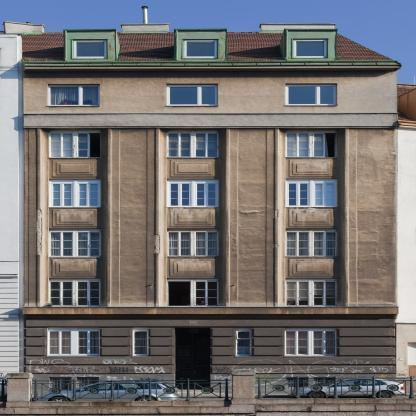Building Outline: (21, 6, 403, 396)
Door: (175, 346, 210, 390)
Facade: (22, 6, 397, 395)
Floor: (23, 69, 398, 124), (23, 128, 398, 175), (23, 229, 398, 274), (23, 180, 398, 225), (23, 279, 398, 314)
Floor Slab: (23, 314, 398, 319), (23, 274, 398, 279), (23, 224, 398, 229), (23, 64, 398, 68), (23, 175, 398, 179), (23, 124, 398, 128)
Ground Floor: (23, 319, 398, 395)
Molding: (23, 315, 397, 319)
Roof: (21, 6, 393, 61)
Top Floor: (21, 31, 398, 65)
Window: (278, 128, 346, 307), (40, 128, 108, 307), (159, 128, 227, 307), (48, 328, 99, 356), (286, 180, 337, 208), (286, 229, 337, 257), (286, 279, 337, 307), (50, 180, 101, 208), (49, 229, 100, 257), (49, 279, 100, 307), (167, 180, 218, 208), (167, 229, 218, 257), (167, 279, 218, 307), (286, 130, 337, 158), (49, 130, 100, 158), (167, 130, 218, 158), (285, 328, 336, 356), (286, 83, 337, 105), (49, 84, 100, 105), (167, 84, 218, 105), (72, 39, 107, 59), (293, 39, 328, 58), (183, 39, 218, 58), (175, 328, 210, 346), (133, 328, 148, 356), (236, 328, 251, 356)
